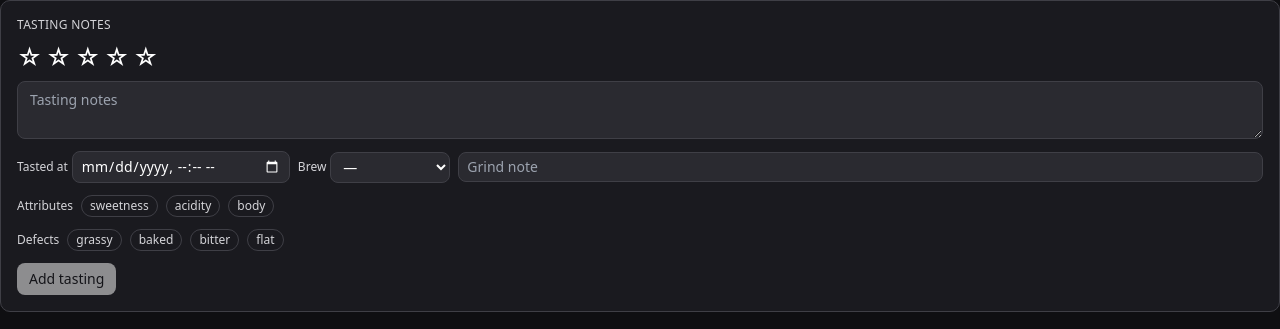
Test case: RoastTastings › resets the form after a successful save
The image size is (1280, 329).
Click the radio button with test id "tasting-star-3" at (88, 57), box left=75, top=45, right=100, bottom=69
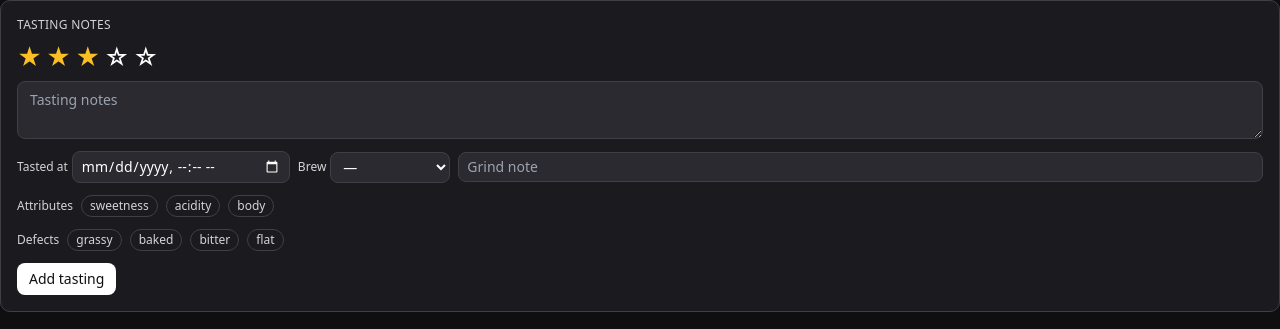
Type "draft" into the text box with test id "tasting-notes" at (640, 110), box left=17, top=81, right=1263, bottom=139
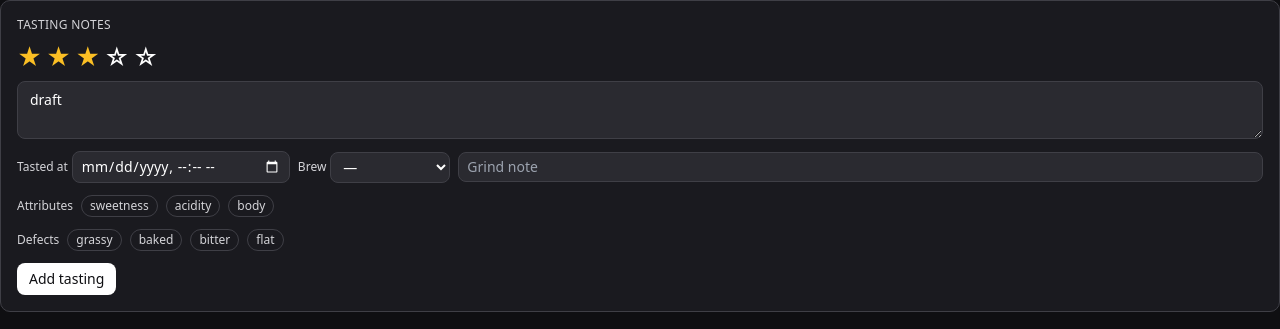
Click the button with test id "tasting-save" at (67, 279), box left=17, top=263, right=116, bottom=295
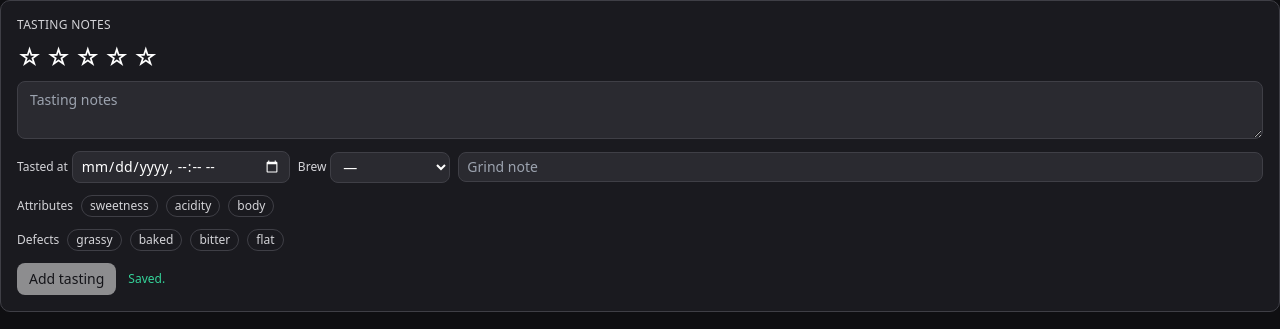
Result: the text "Saved." is shown at left=128, top=271, right=165, bottom=287
Result: the text box with test id "tasting-notes" is empty at left=17, top=81, right=1263, bottom=139
Result: the button with test id "tasting-save" is disabled at left=17, top=263, right=116, bottom=295
